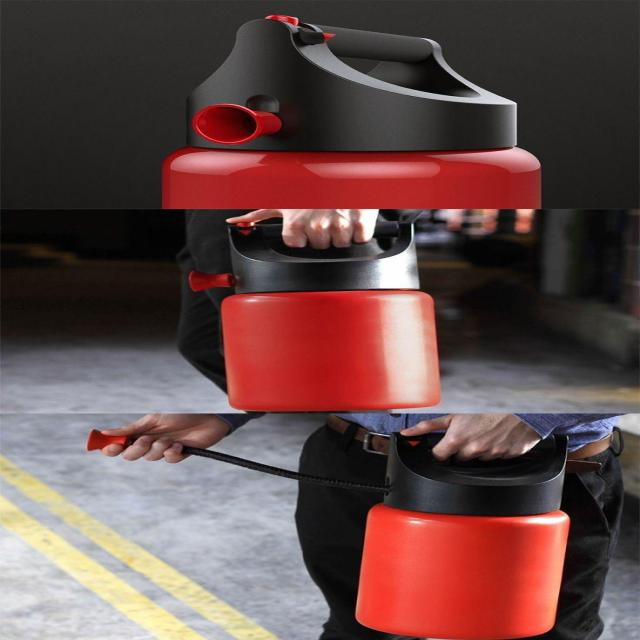fire_extinguisher: (72, 414, 604, 640), (148, 10, 548, 208), (212, 211, 438, 412)
